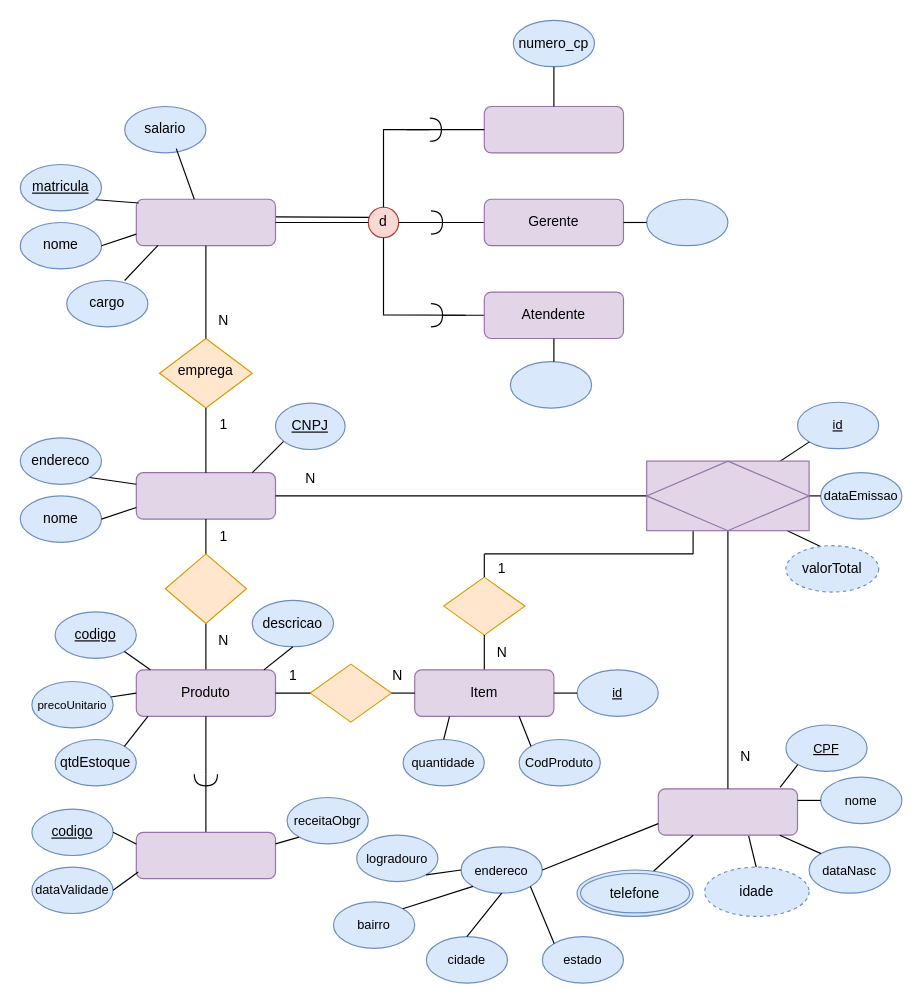
Some shapes in this 922 by 1003 pixel diagram are drawn without their labels. The centre of each missing label's shape, as x and y in pixels:
Cliente: pixel 727 811
contém: pixel 484 605
Farmaceutico: pixel 553 129
Farmacia: pixel 205 495
Funcionario: pixel 205 222
NotaFiscal: pixel 727 495
percentualC: pixel 550 384
refere-se: pixel 350 692
Remedio: pixel 205 855
vende: pixel 205 588
volume_vendas: pixel 687 222
